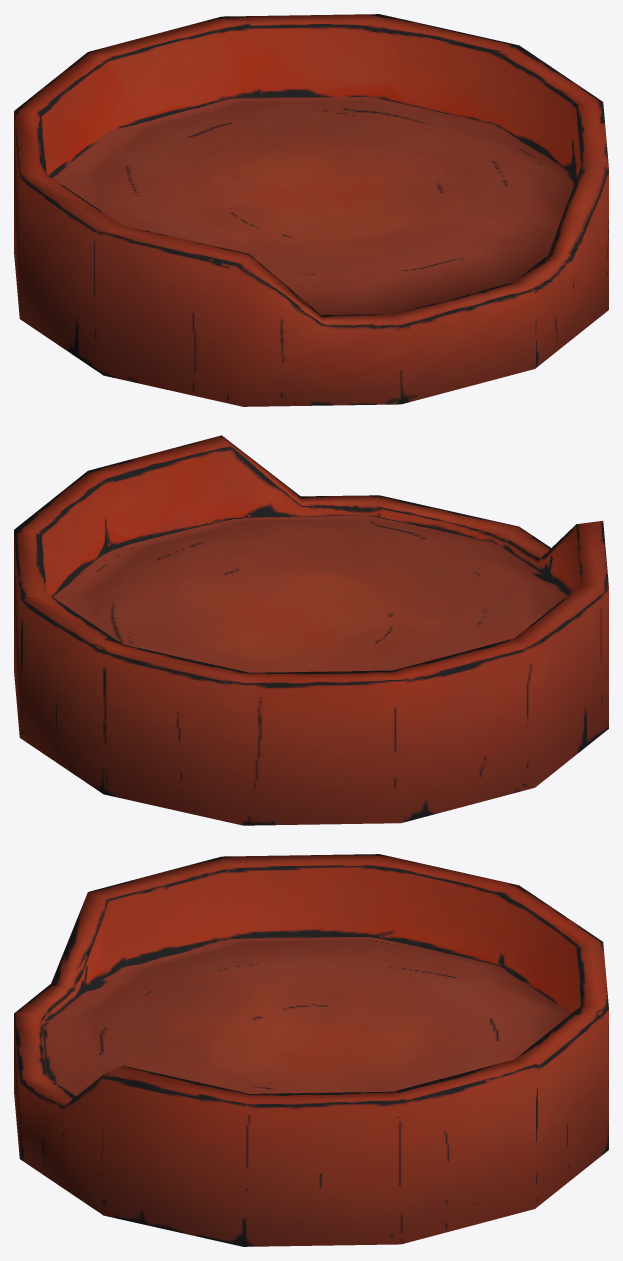
The model's file is Dog_bed.fbx.
The picture shows the model from 3 angles, top to bottom: view 1: azimuth 30°, elevation 25°; view 2: azimuth 150°, elevation 25°; view 3: azimuth 270°, elevation 25°; orthographic projection.
Visible parts, largest first — view 1: dog bed; view 2: dog bed; view 3: dog bed.
Part boxes in pixels (left/top/right/bottom): dog bed: left=14, top=14, right=608, bottom=406; dog bed: left=14, top=435, right=608, bottom=825; dog bed: left=14, top=854, right=608, bottom=1246.
Bounding box in the file's own units: 94.3 × 24.71 × 94.3.
